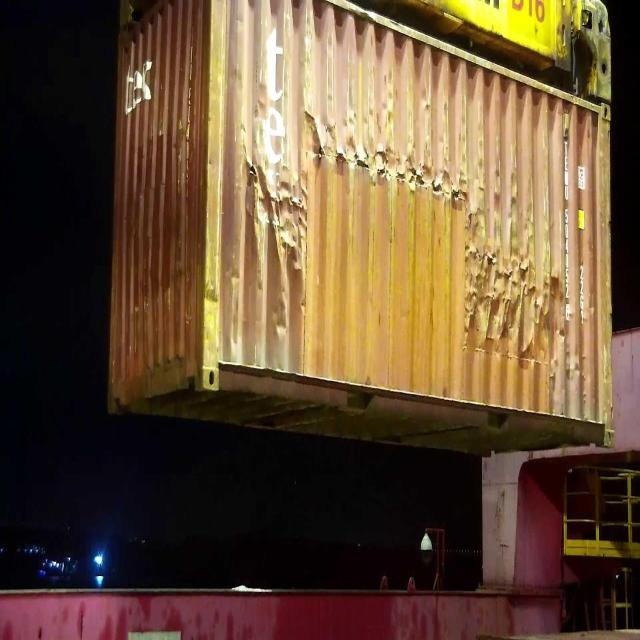dent: (467, 203, 568, 354), (305, 42, 431, 140), (126, 206, 194, 360), (234, 153, 309, 274), (441, 104, 557, 179)
